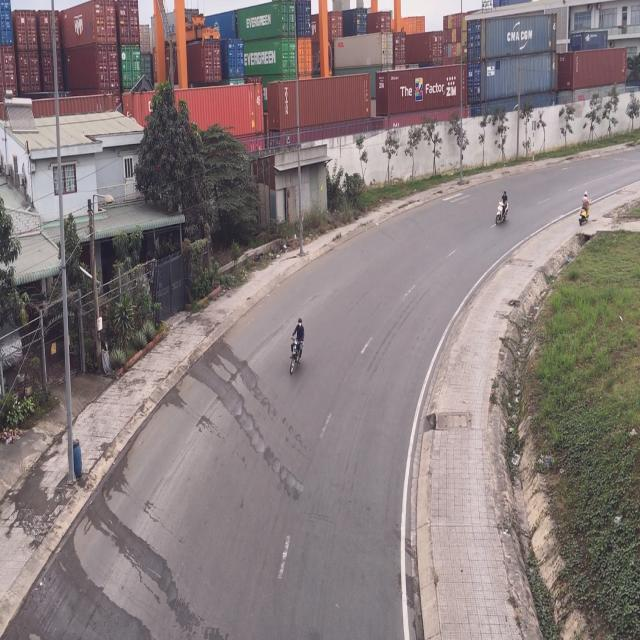motorbike: (287, 318, 305, 379), (494, 188, 511, 228), (576, 193, 590, 227)
